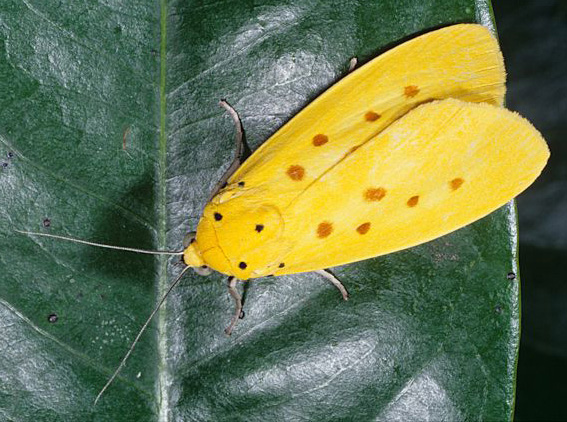Agape chloropyga: (14, 17, 552, 405)
moth: (12, 15, 550, 403)
